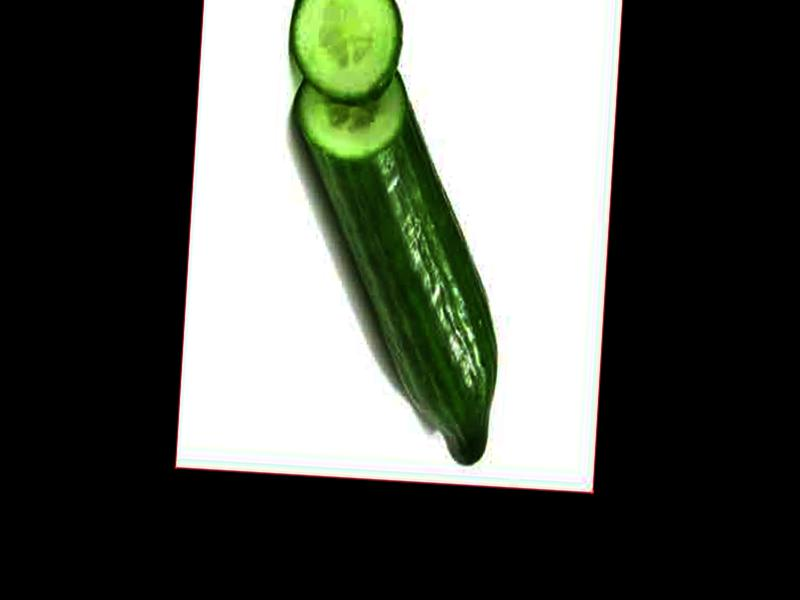Cucumber: (273, 58, 513, 467)
